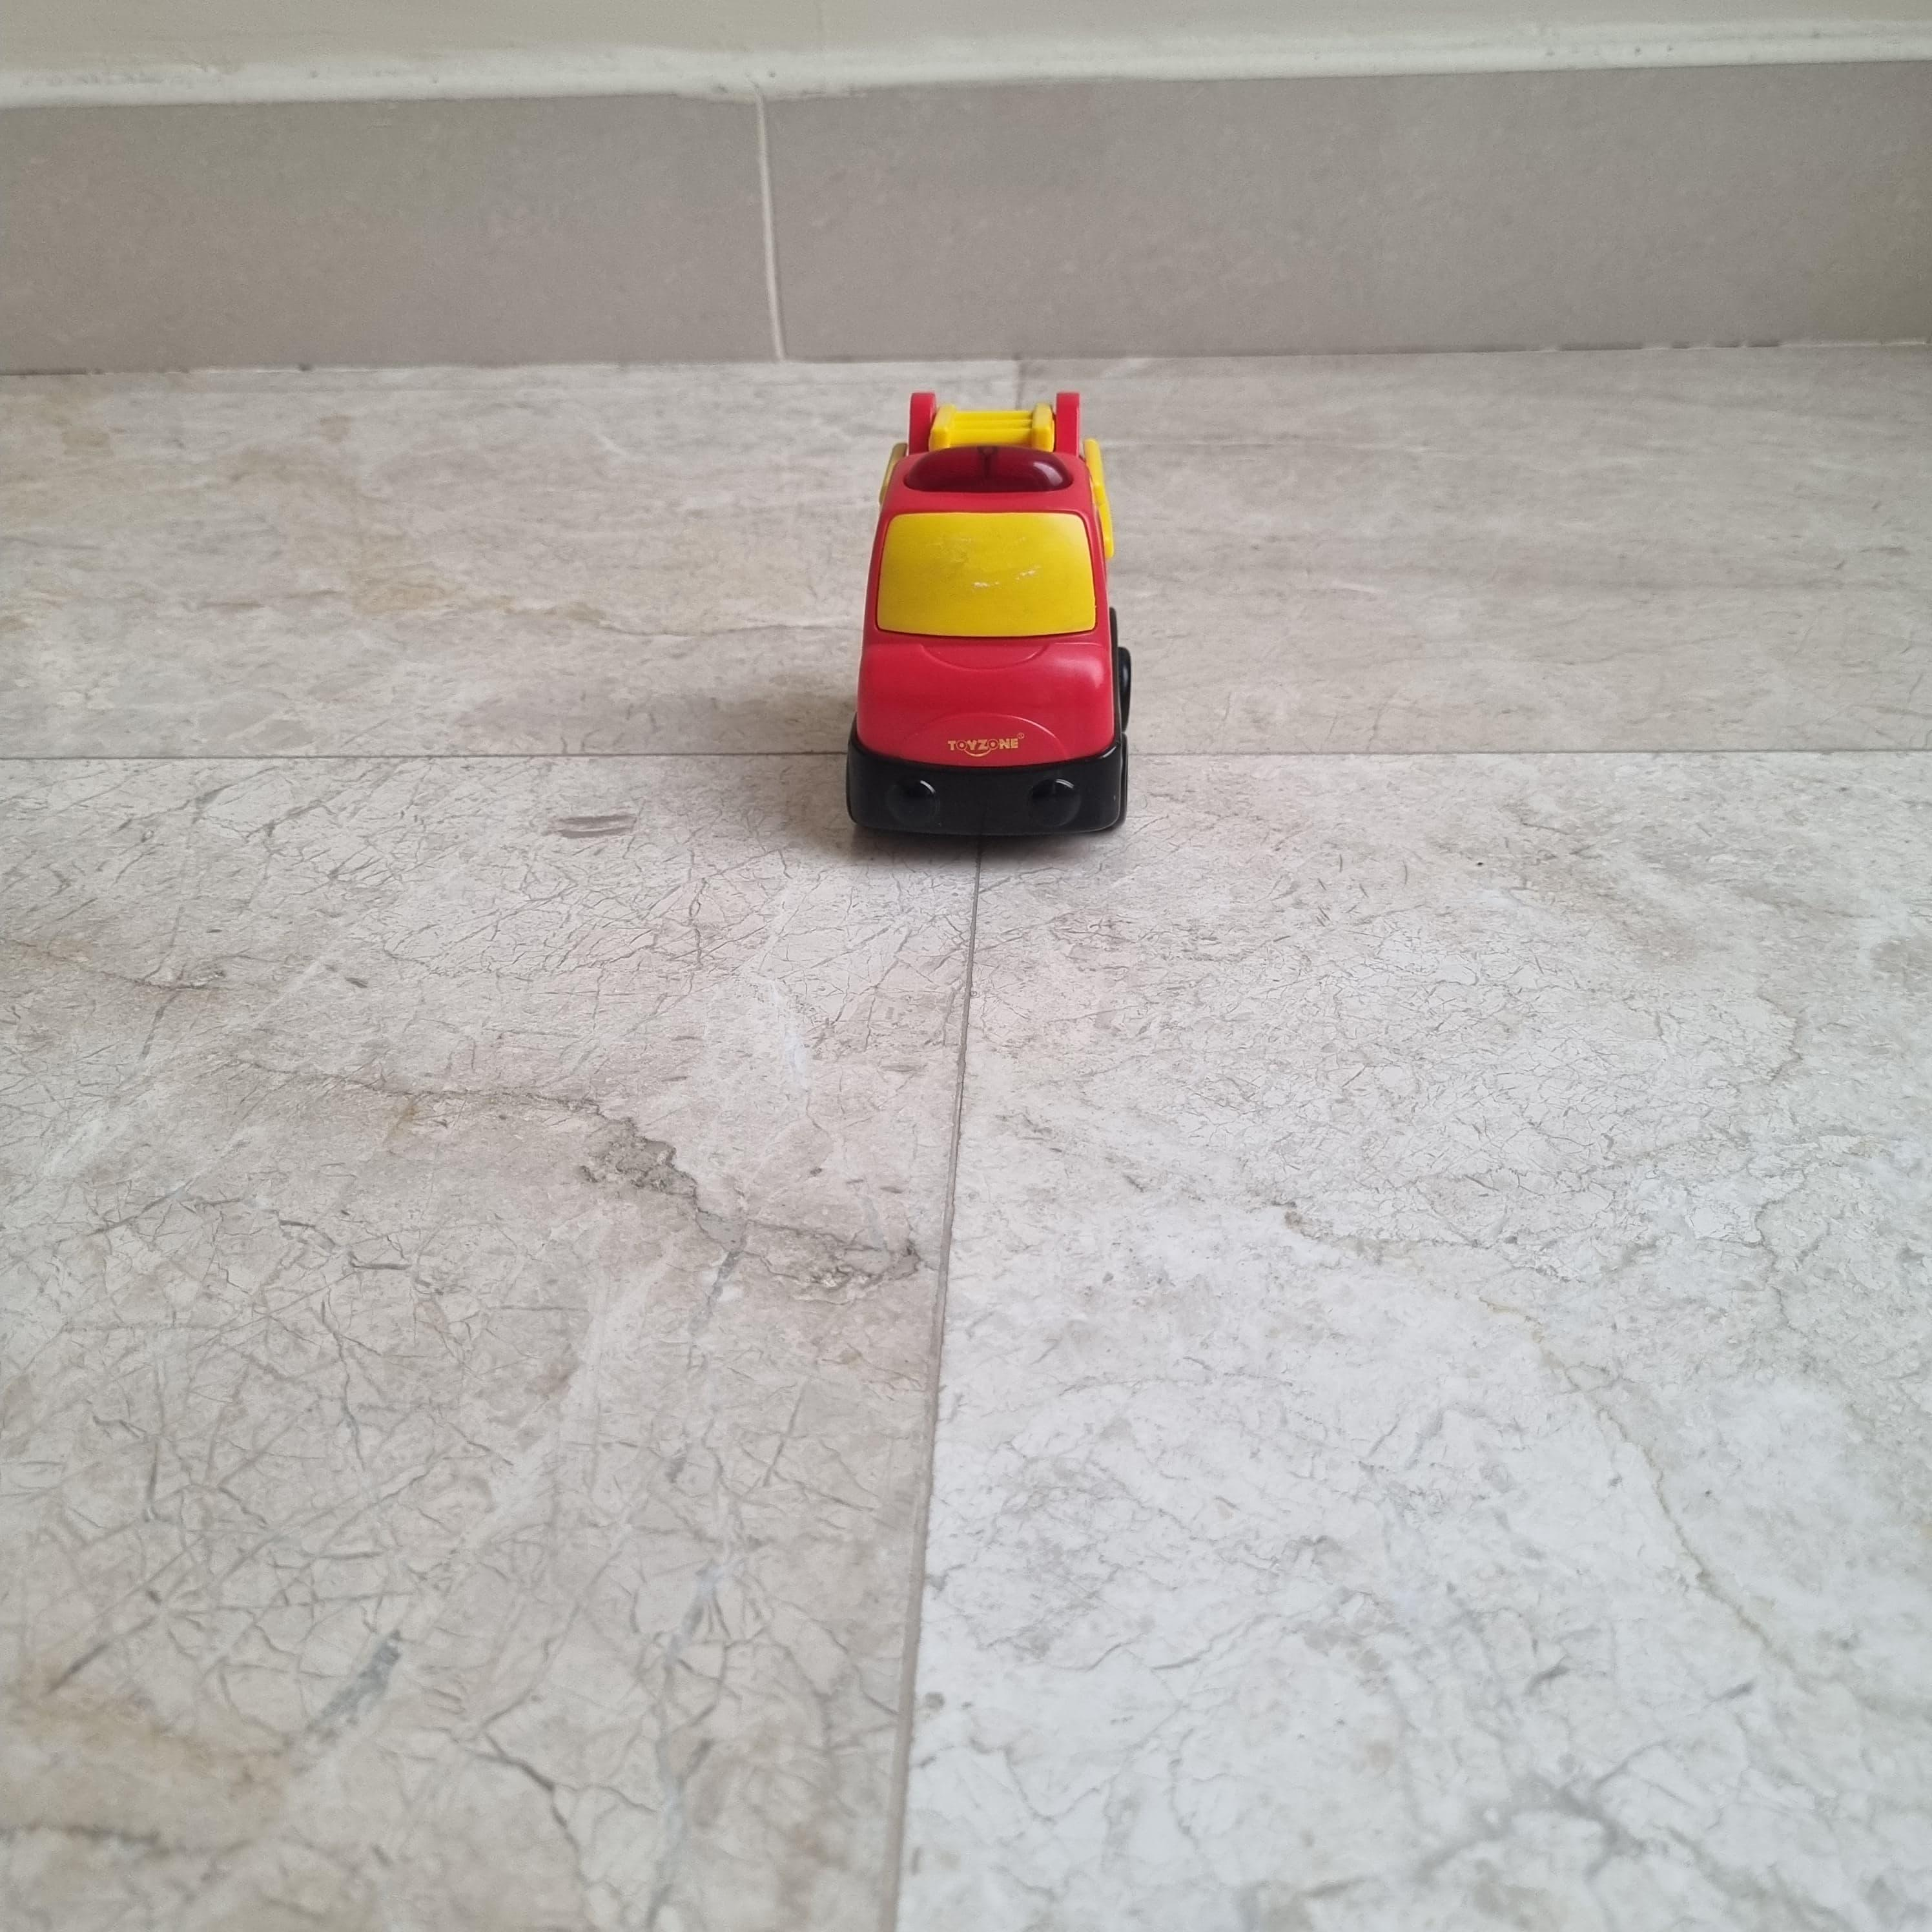firetruck_off: (840, 387, 1138, 849)
